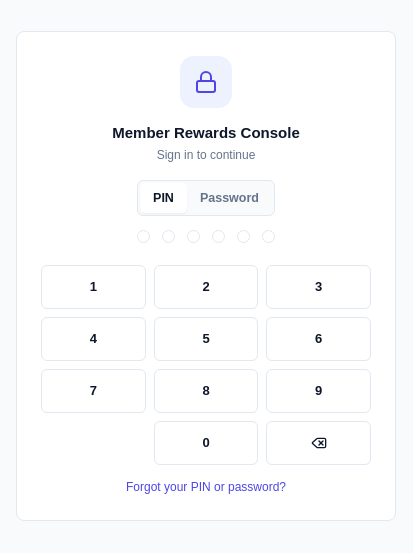
it: Login — PIN mode › shows the invalid-credential message with attempts remaining, and clears the buffer
What coordinates should you click on to do the following:
click the button "1"
I would click on:
 (93, 287)
Its box is [41,265,146,309].
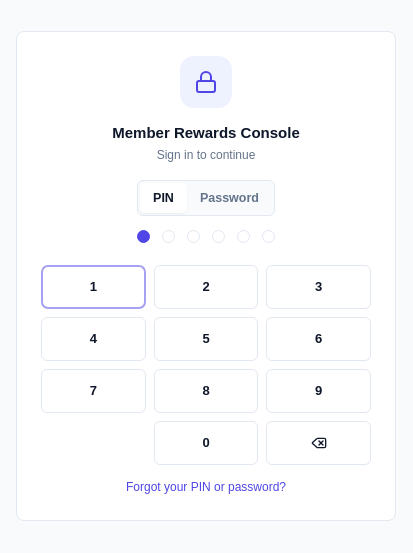
What coordinates should you click on to do the following:
click the button "1"
I would click on:
 (93, 287)
Its box is [41,265,146,309].
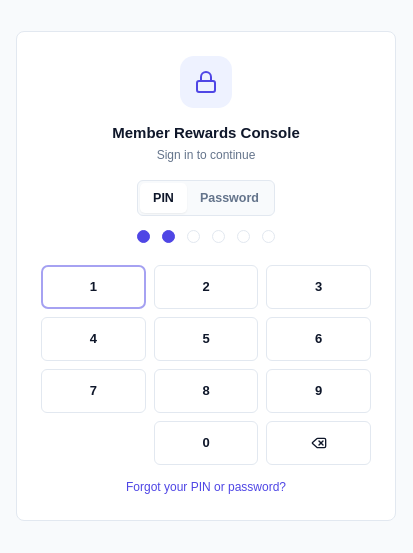
What coordinates should you click on to do the following:
click the button "1"
I would click on:
 (93, 287)
Its box is [41,265,146,309].
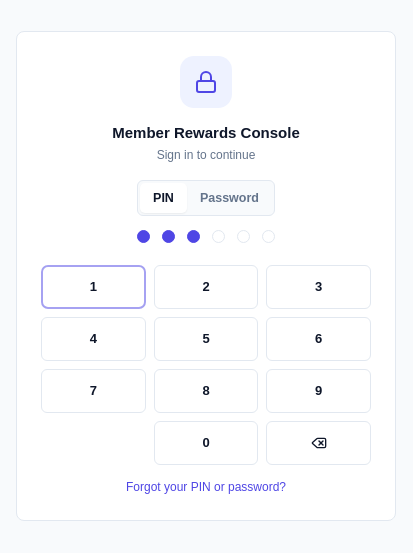
What coordinates should you click on to do the following:
click the button "1"
I would click on:
 (93, 287)
Its box is [41,265,146,309].
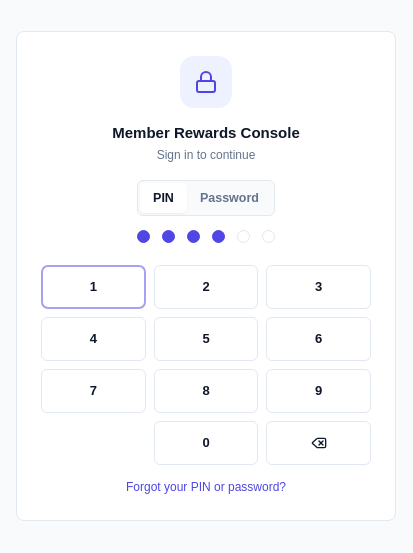
What coordinates should you click on to do the following:
click the button "1"
I would click on:
 (93, 287)
Its box is [41,265,146,309].
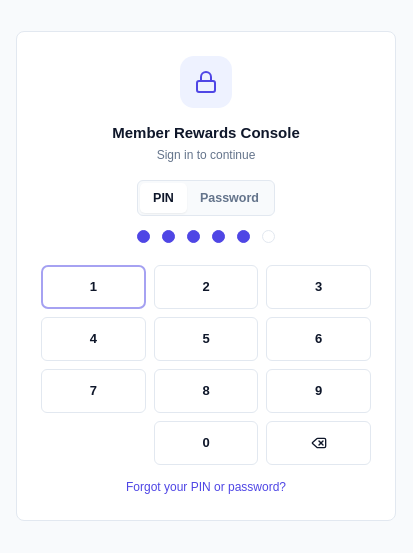
What coordinates should you click on to do the following:
click the button "1"
I would click on:
 (93, 287)
Its box is [41,265,146,309].
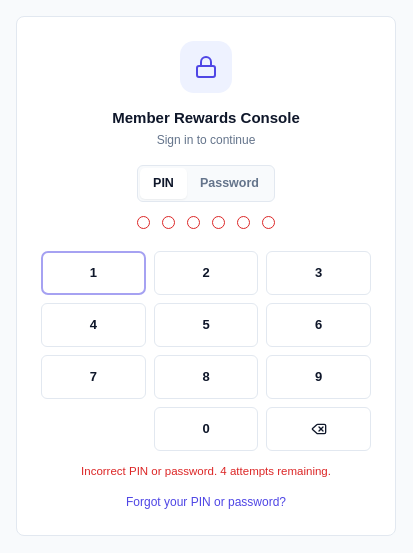
Expected: the button "1" is shown, [41,251,146,295]
Expected: the text "Incorrect PIN or password. 4 attempts remaining." is shown, [81,465,331,477]
